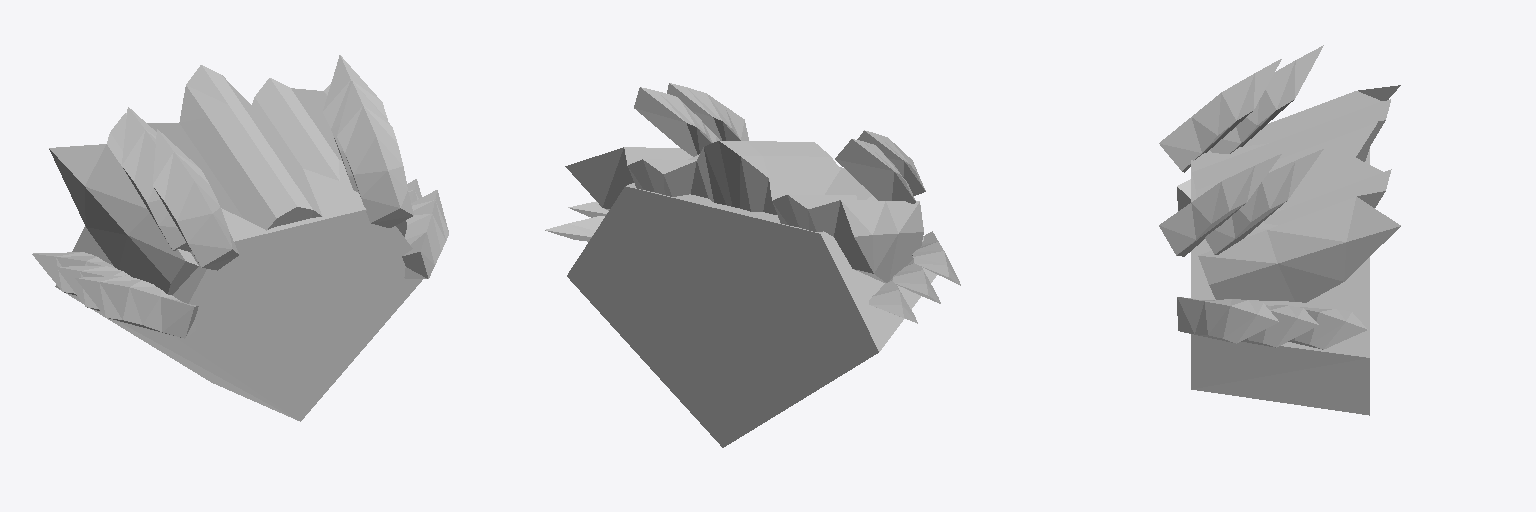
Rendered from Tail2.obj.
The picture shows the model from 3 angles: view 1: azimuth 30°, elevation 25°; view 2: azimuth 150°, elevation 25°; view 3: azimuth 270°, elevation 25°; orthographic projection.
Parts seen in each view (by area): view 1: 立方体.020; view 2: 立方体.020; view 3: 立方体.020.
Part boxes in pixels (x1,y1,x2,y2): 立方体.020: (32, 55, 448, 421); 立方体.020: (545, 83, 960, 447); 立方体.020: (1159, 45, 1400, 415).
Bounding box in the file's own units: 1.37 × 1.15 × 0.7969.